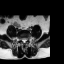CCS_normal: (23, 37, 24, 44)
LFS_stenosis: (26, 37, 28, 42)
LLS_normal: (24, 37, 26, 43)
RFS_stenosis: (20, 37, 22, 41)
RLS_normal: (22, 37, 23, 44)
